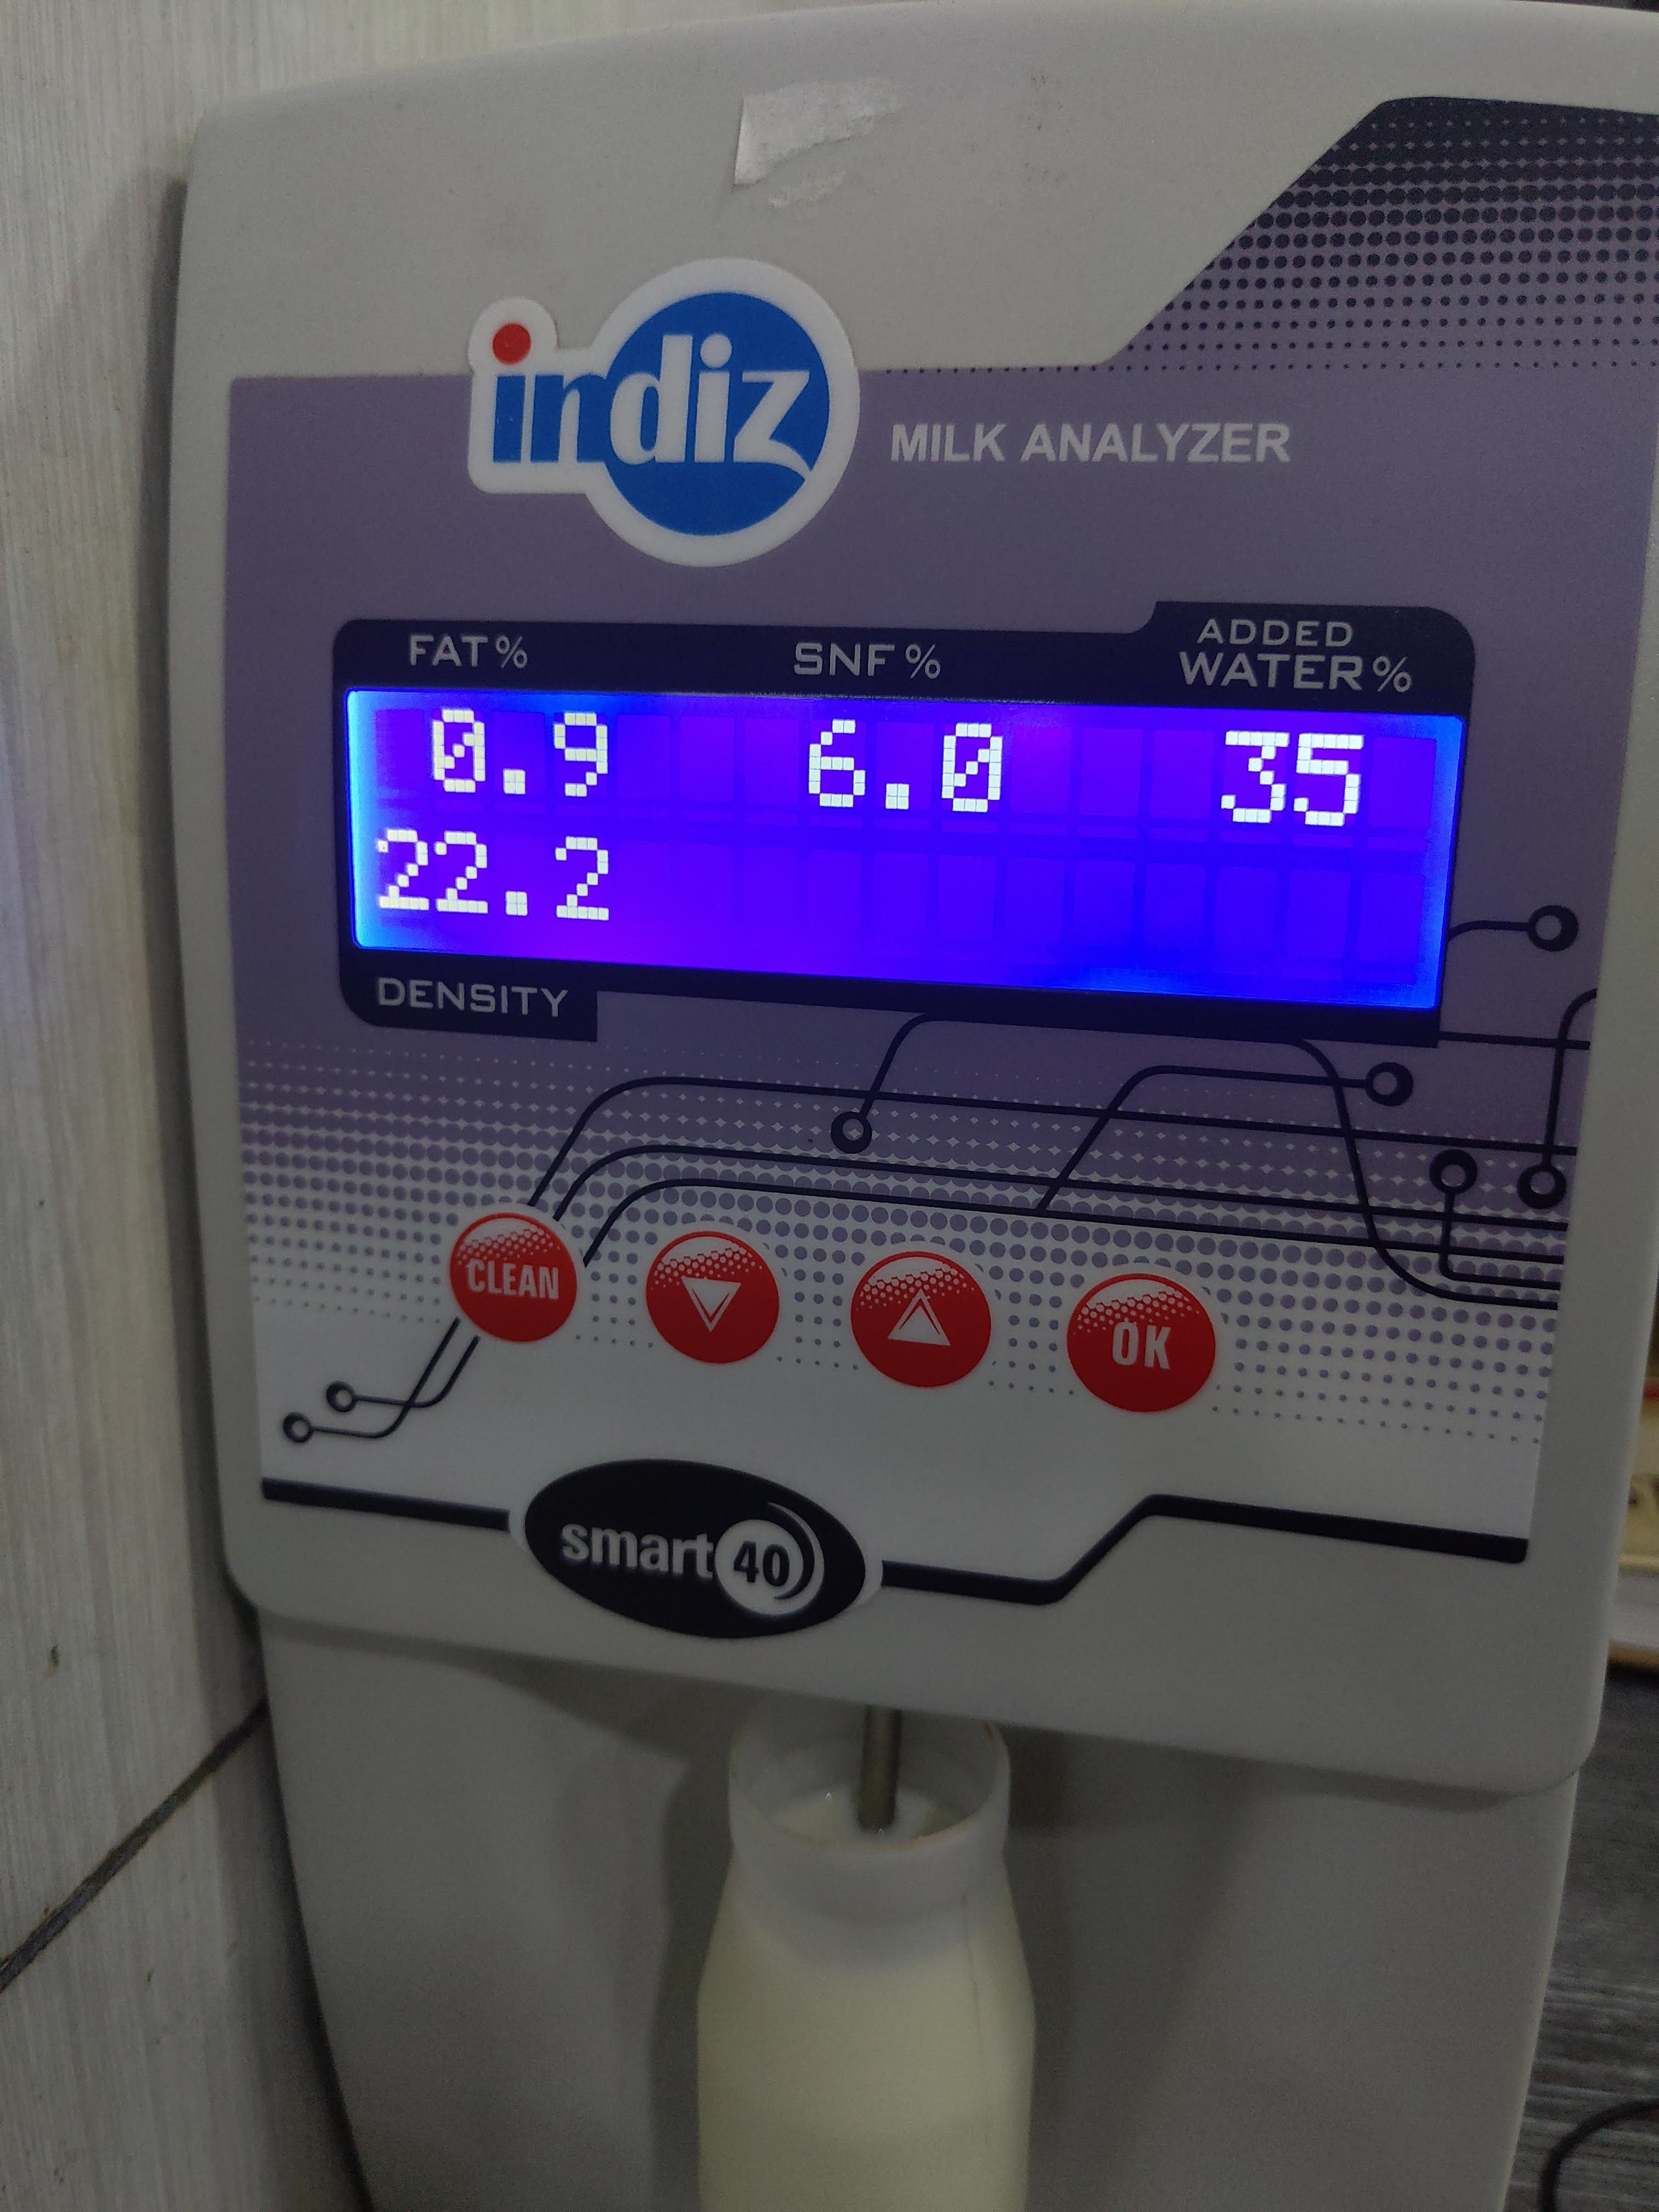lcd: (335, 671, 1455, 1031)
